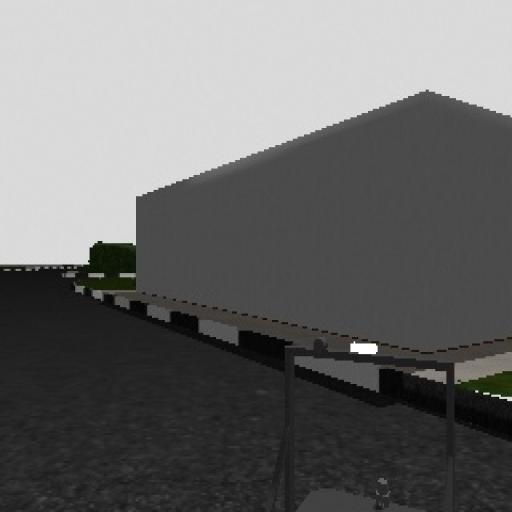huskya200: (235, 318, 478, 511)
